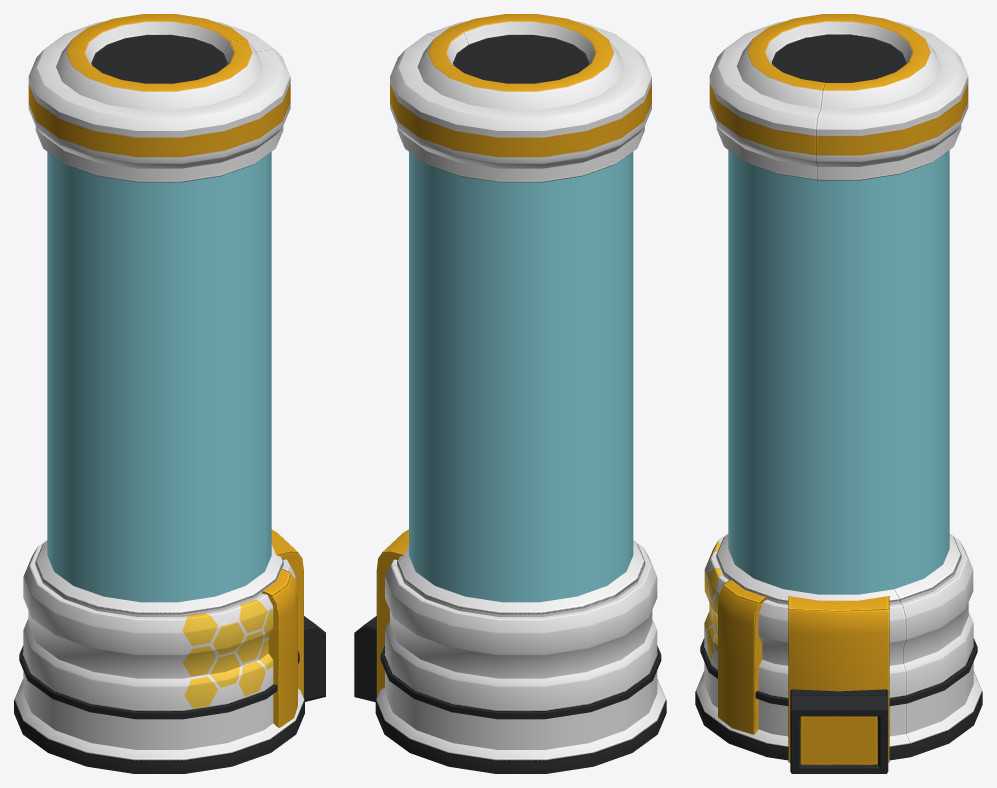
Rendered from Prop_cryo_capsule.fbx.
3 renders of one model, left to right at view 1: azimuth 30°, elevation 25°; view 2: azimuth 150°, elevation 25°; view 3: azimuth 270°, elevation 25°, orthographic.
Visible parts, largest first — view 1: CRYO; view 2: CRYO; view 3: CRYO.
Boxes of the visible parts, left/top/right/bottom form: CRYO: left=14, top=14, right=325, bottom=773; CRYO: left=354, top=14, right=666, bottom=773; CRYO: left=695, top=14, right=982, bottom=773.
Bounding box in the file's own units: 43.9 × 46.44 × 110.
